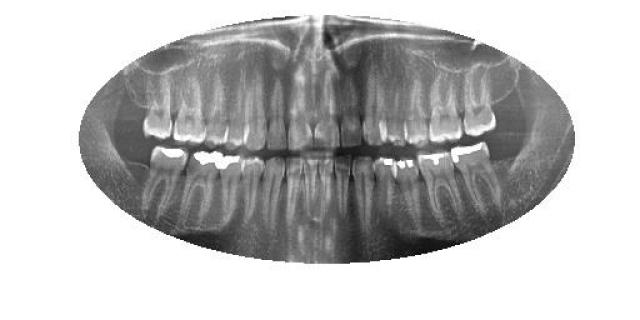Fillings: (450, 141, 505, 215), (140, 144, 188, 215), (179, 148, 221, 224), (418, 150, 452, 220), (392, 156, 422, 232), (218, 154, 244, 228), (373, 156, 395, 222)
